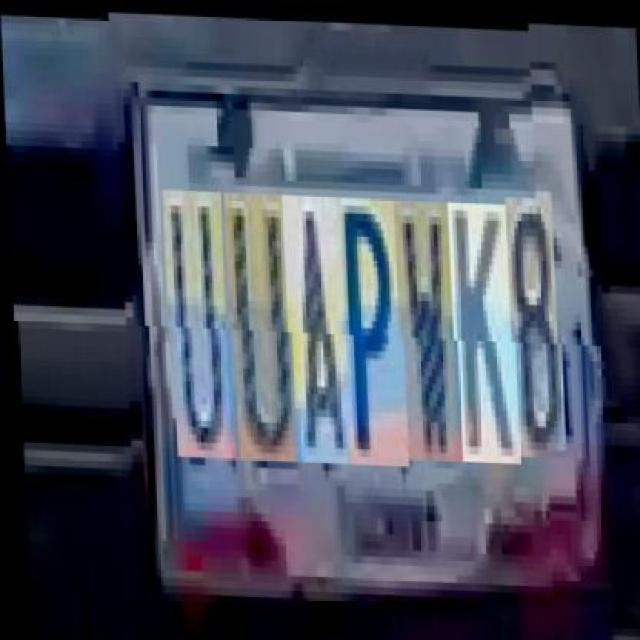8: (507, 193, 564, 455)
a: (284, 192, 347, 460)
k: (450, 198, 518, 460)
p: (338, 194, 405, 463)
u: (225, 190, 293, 459), (164, 188, 231, 457)
w: (396, 196, 459, 458)
